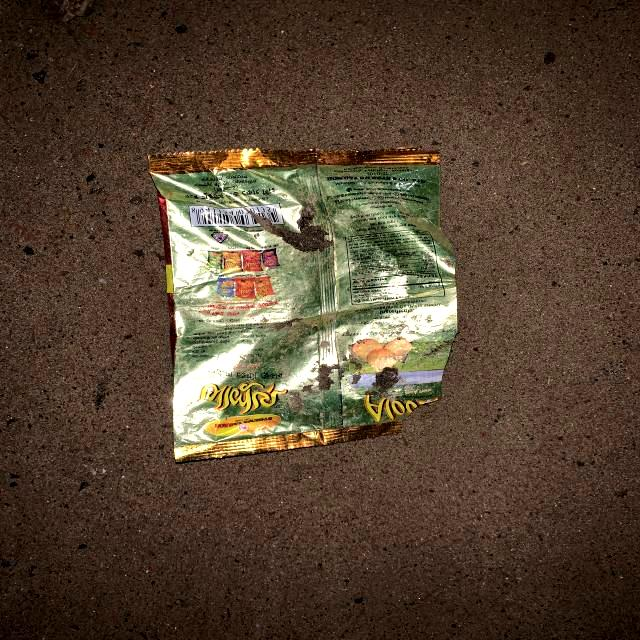packet: (158, 149, 460, 467)
